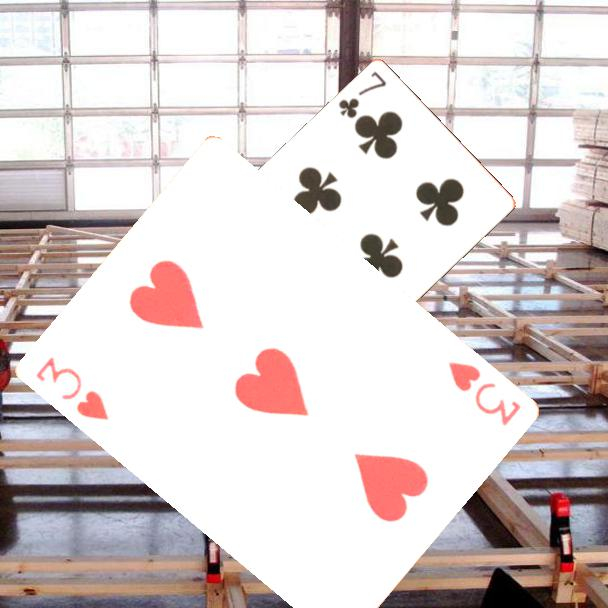c07: (335, 68, 389, 122)
h03: (31, 353, 111, 424), (444, 358, 524, 429)
